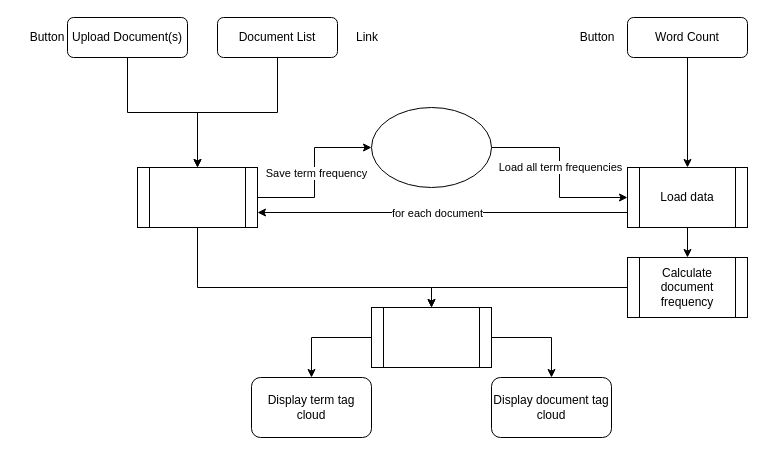
Some shapes in this 765 by 455 pixel diagram are drawn without their labels. Here are the shapes that lost their labels. From the top down, the centre of each, then its label:
point (431, 147): Mongo DB
point (197, 197): Calculate term frequency
point (431, 337): Create tag cloud
